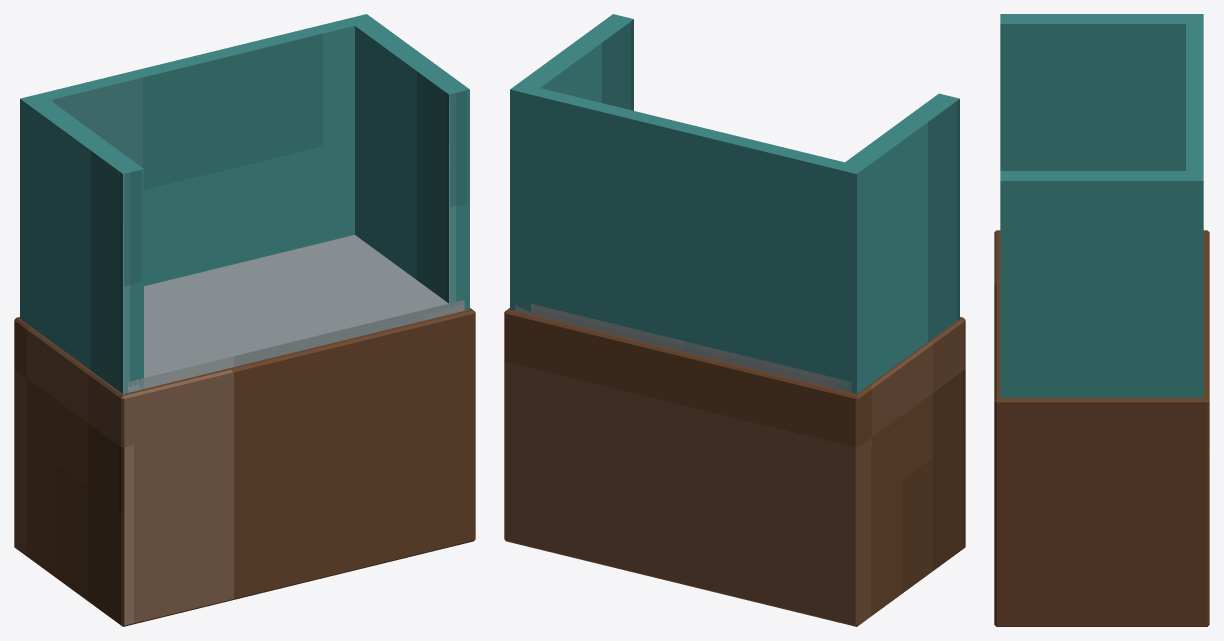
File: broken_aquarium.glb
3 views of the same model, side by side, from view 1: azimuth 30°, elevation 25°; view 2: azimuth 150°, elevation 25°; view 3: azimuth 270°, elevation 25° (orthographic).
Parts seen in each view (by area): view 1: TankStand, TankBack, TankSide_-0.62, CrackedBase, TankSide_0.62; view 2: TankStand, TankBack, TankSide_-0.62, TankSide_0.62, CrackedBase; view 3: TankStand, TankSide_0.62, TankSide_-0.62, TankBack.
Part boxes in pixels (<box>): TankStand: <box>14,308,475,626</box>; TankBack: <box>33,17,362,285</box>; TankSide_-0.62: <box>20,94,143,393</box>; CrackedBase: <box>128,235,464,392</box>; TankSide_0.62: <box>348,14,469,310</box>; TankStand: <box>504,308,965,626</box>; TankBack: <box>523,86,851,387</box>; TankSide_-0.62: <box>836,93,959,393</box>; TankSide_0.62: <box>510,14,633,312</box>; CrackedBase: <box>515,303,851,392</box>; TankStand: <box>994,230,1209,626</box>; TankSide_0.62: <box>1000,171,1203,397</box>; TankSide_-0.62: <box>1000,14,1203,170</box>; TankBack: <box>1186,20,1203,174</box>.
Size of the model in its own units: 1.35 by 1.64 by 0.72.
Materials: 1 (1 with a texture image).
